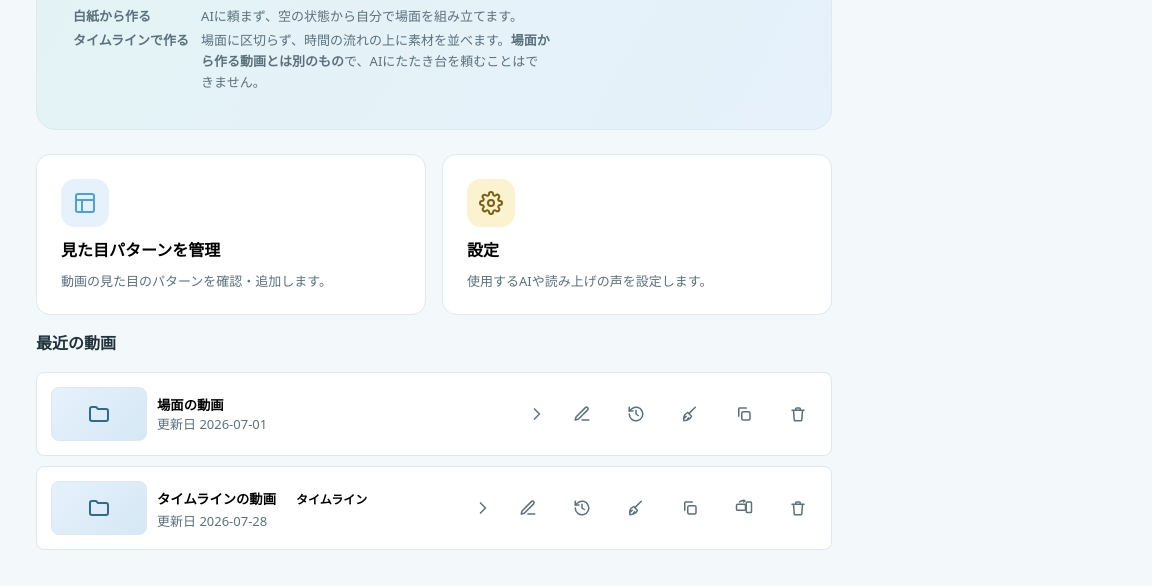
削除の確認が、その形式の言葉で言う（#991） › 場面形式では「場面」と言う
(page scrolled)
Click the button named "「場面の動画」を削除" at (798, 414), box [779,395,817,433]
(page scrolled)
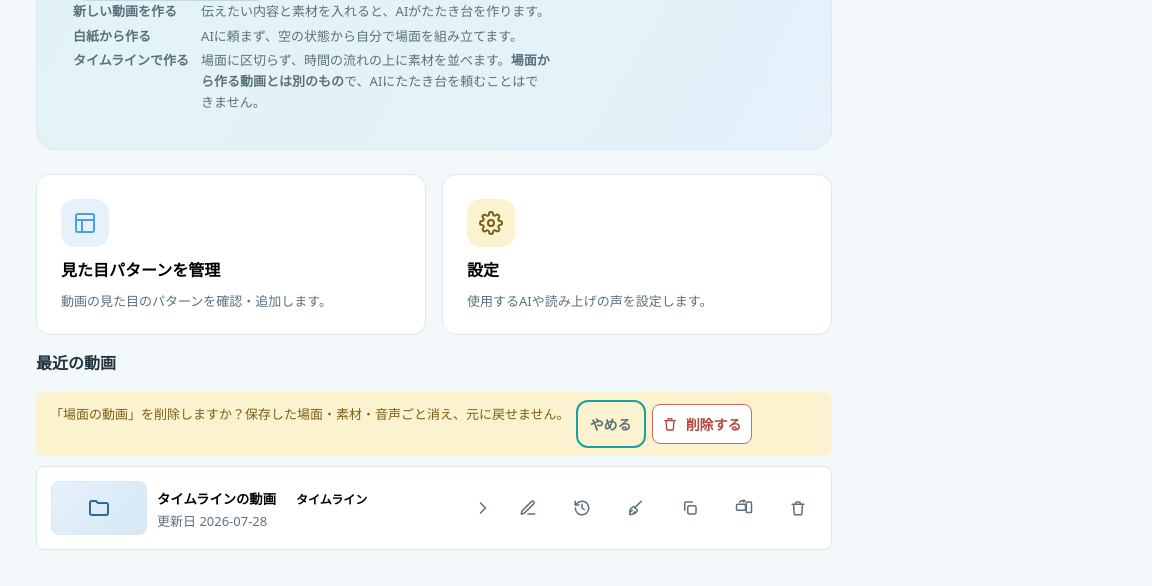
Expected: the text "「場面の動画」を削除しますか？保存した場面・素材・音声ごと消え、元に戻せません。" is shown, [50,404,570,425]
